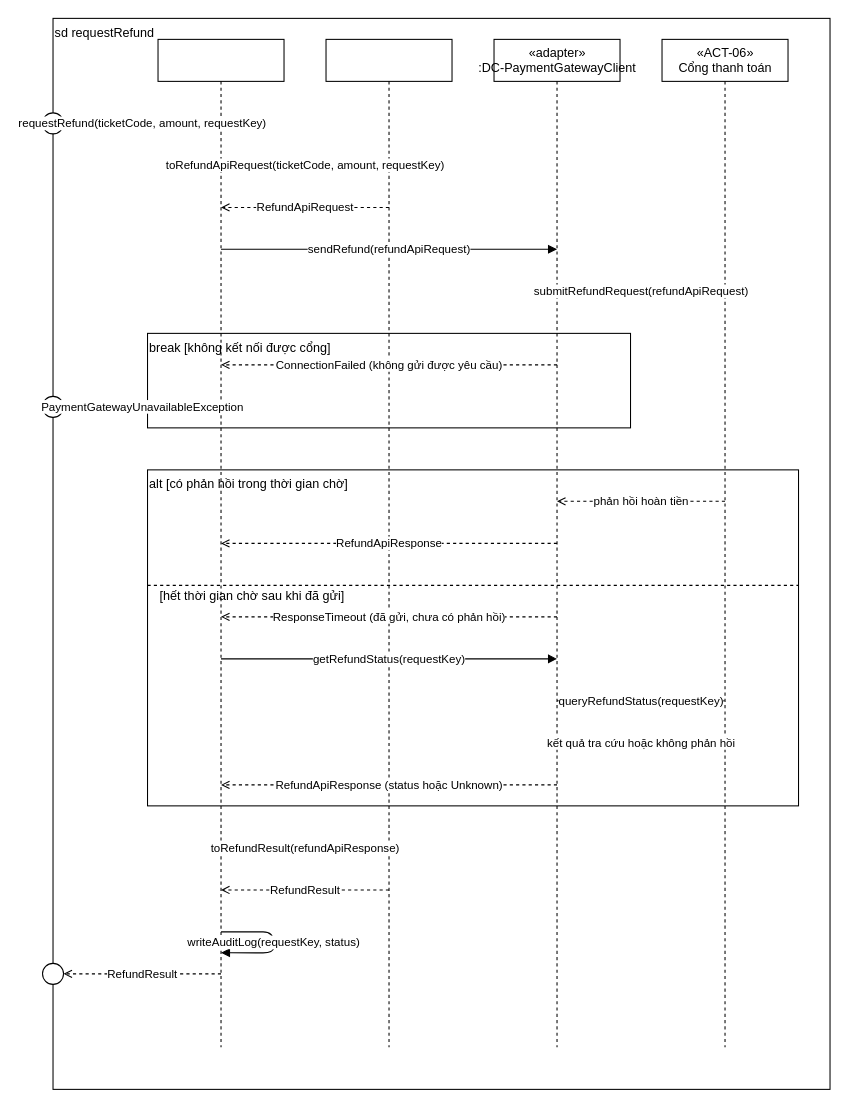
Some shapes in this 848 by 1108 pixel diagram are drawn without their labels. Here are the shapes that lost their labels. From the top down, the box of each, then its label:
(157, 38, 284, 1047): «control» :DC-PaymentGatewayService
(325, 38, 452, 1047): «converter» :DC-PaymentDataConverter
